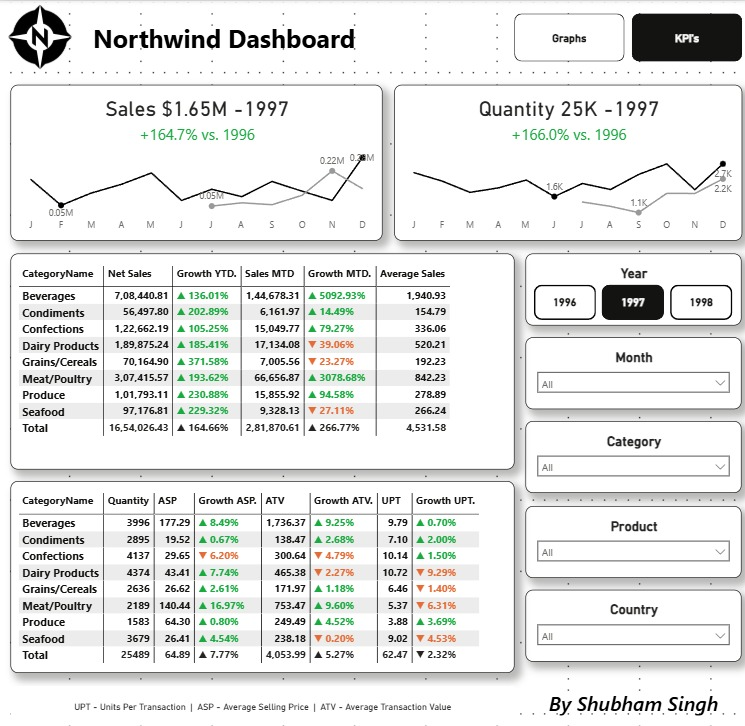

The dashboard page shown, as its layout file describes it:
{"tool":"powerbi","page":{"name":"products","canvas":[1000,975],"ordinal":0},"visuals":[{"type":"shape","box":[112,0,416,96],"z":0},{"type":"barChart","title":"Sales by Category","fields":{"Y":["MeasureTable._Current Year Sales","MeasureTable._Past Year Sales."],"Category":["Categories.CategoryName"]},"box":[16,336,672,272],"z":0,"group":"g2"},{"type":"advancedSlicerVisual","fields":{"Values":["CALENDAR.Date.Variation.Date Hierarchy.Year"]},"box":[704,336,288,96],"z":0,"group":"g1"},{"type":"lineChart","fields":{"Y":["Sum(Order Details.totalPrice)","MeasureTable.Max Current Value","MeasureTable.Min Current Value","MeasureTable.Max Past Year Value","MeasureTable.Min Past Year Value","MeasureTable._Past Year Sales"],"Category":["CALENDAR.Month Letter"]},"box":[16,112,496,208],"z":1000},{"type":"slicer","title":"Month","fields":{"Values":["CALENDAR.Date.Variation.Date Hierarchy.Month"]},"box":[704,448,288,96],"z":1000,"group":"g1"},{"type":"esriVisual","fields":{"Location":["Customers.Country"],"Size":["Sum(Order Details.totalPrice)"]},"box":[16,624,672,320],"z":1000,"group":"g2"},{"type":"lineChart","fields":{"Y":["Sum(Order Details.Quantity)","MeasureTable.__Max Current Value","MeasureTable.__Min Current Value","MeasureTable.__Max Past Year Value","MeasureTable.__Min Past Year Value","MeasureTable.__Past Year Quantity"],"Category":["CALENDAR.Month Letter"]},"box":[528,112,464,208],"z":2000},{"type":"slicer","title":"Category","fields":{"Values":["Categories.CategoryName"]},"box":[704,560,288,96],"z":2000,"group":"g1"},{"type":"image","box":[0,0,112,96],"z":3000},{"type":"slicer","title":"Product","fields":{"Values":["Products.ProductName"]},"box":[704,672,288,96],"z":3000,"group":"g1"},{"type":"group","id":"g1","title":"Filters","box":[704,336,288,544],"z":4000},{"type":"slicer","title":"Country","fields":{"Values":["Customers.Country"]},"box":[704,784,288,96],"z":4000,"group":"g1"},{"type":"shape","box":[704,895,288,80],"z":5000},{"type":"bookmarkNavigator","box":[688,16,304,64],"z":6000},{"type":"group","id":"g2","title":"graphs","box":[16,336,672,608],"z":7000}]}

Visuals, with their boxes in screenshot pixels (x1, y1, x2, y2), scaled from the page's 1000x975 canvas onto the 745x726 screenshot:
shape: 83/0/393/71
"Sales by Category" barChart: 12/250/513/453
advancedSlicerVisual - CALENDAR.Date.Variation.Date Hierarchy.Year: 524/250/739/322
lineChart - Sum(Order Details.totalPrice) x MeasureTable.Max Current Value: 12/83/381/238
"Month" slicer: 524/334/739/405
esriVisual - Customers.Country x Sum(Order Details.totalPrice): 12/465/513/703
lineChart - Sum(Order Details.Quantity) x MeasureTable.__Max Current Value: 393/83/739/238
"Category" slicer: 524/417/739/488
image: 0/0/83/71
"Product" slicer: 524/500/739/572
"Filters" group: 524/250/739/655
"Country" slicer: 524/584/739/655
shape: 524/666/739/725
bookmarkNavigator: 513/12/739/60
"graphs" group: 12/250/513/703
